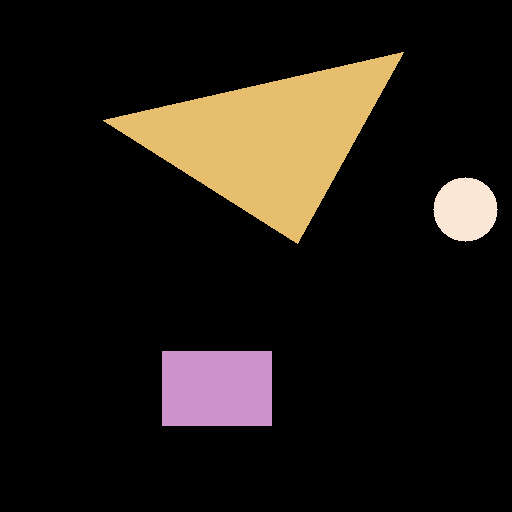circle: (433, 177, 497, 241)
rectangle: (162, 351, 271, 425)
triangle: (103, 52, 403, 243)
